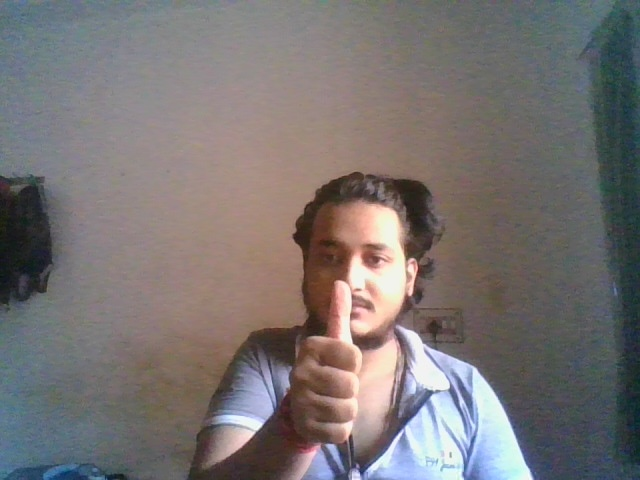ThumbsUp: (288, 279, 367, 443)
